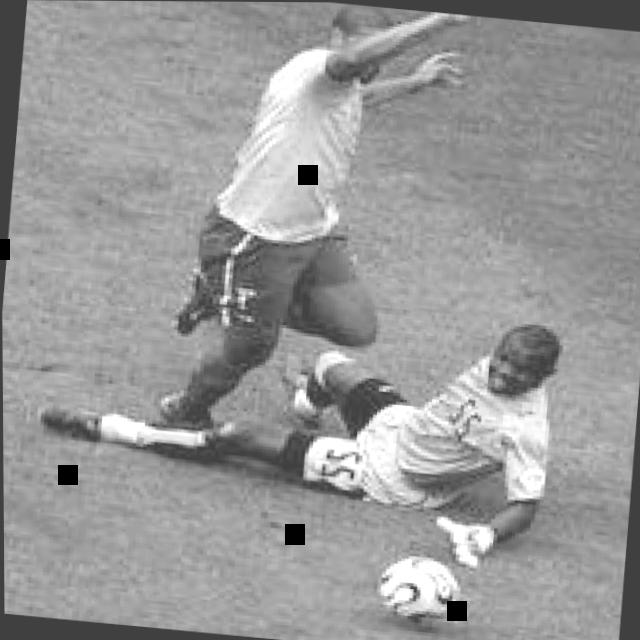Fall-Detected: (23, 268, 594, 534)
